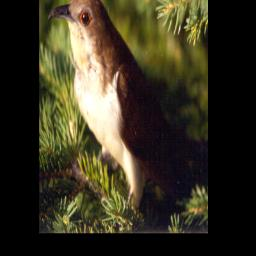Cuckoo: (48, 0, 201, 212)
